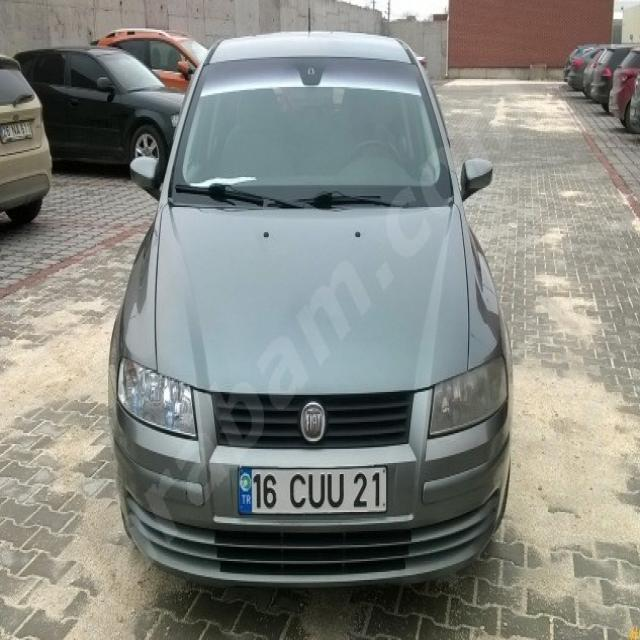license_plate: (237, 466, 389, 515)
